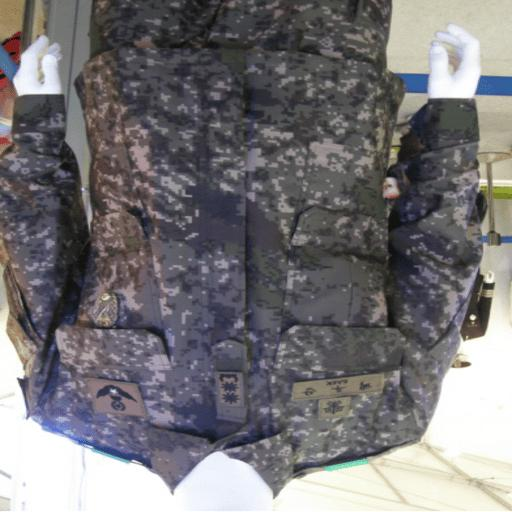korea army: (2, 3, 483, 505)
